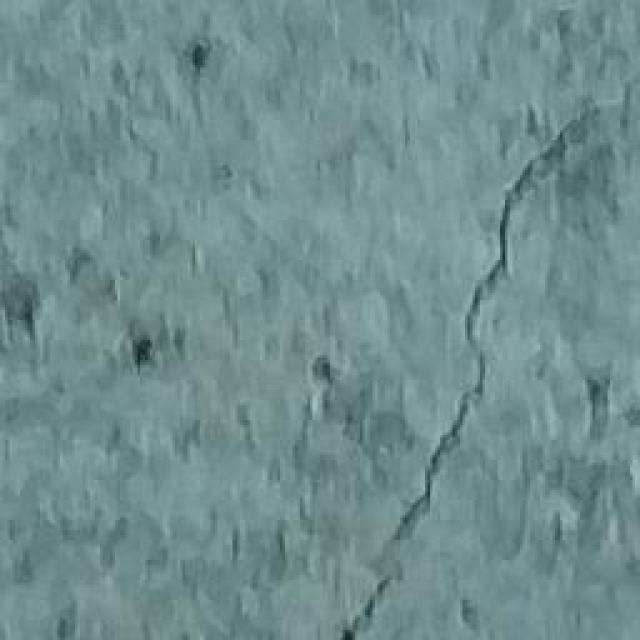Diagonal: (330, 105, 638, 640)
